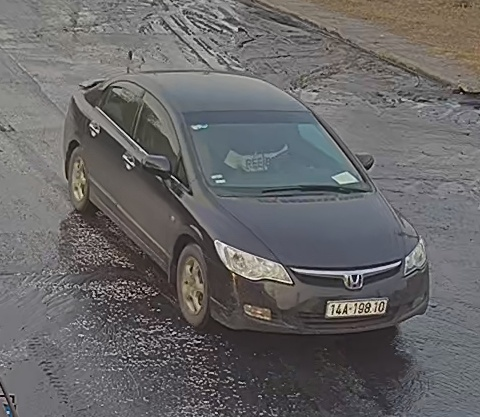vehicle plate: (321, 298, 393, 318)
